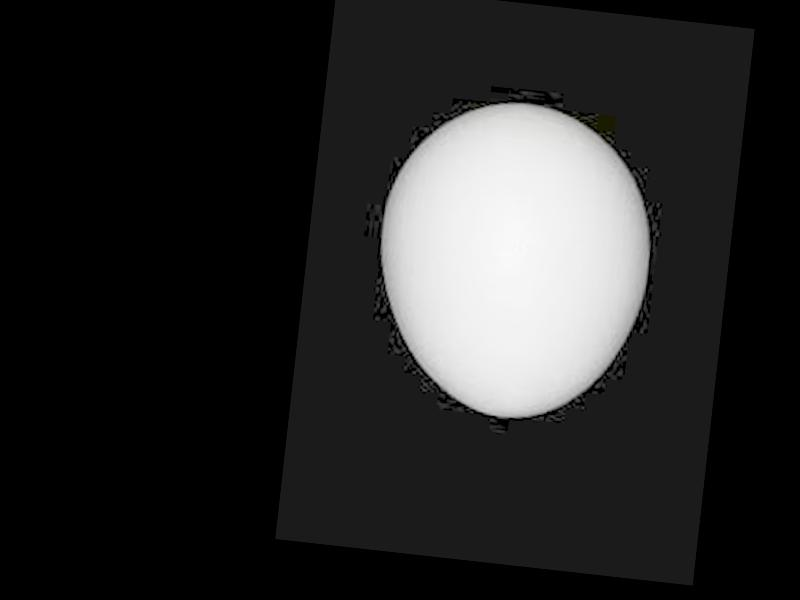Eggs: (364, 91, 664, 428)
